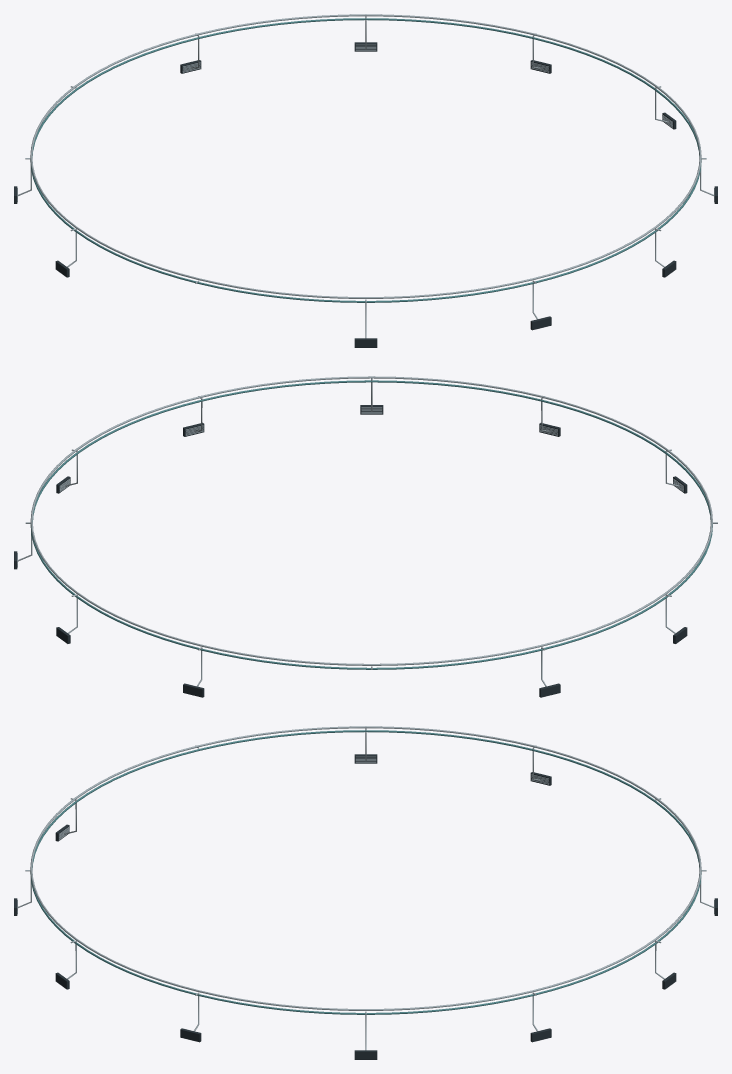
The model's file is RD_W02_Services.fbx.
The picture shows the model from 3 angles, top to bottom: view 1: azimuth 30°, elevation 25°; view 2: azimuth 150°, elevation 25°; view 3: azimuth 270°, elevation 25°; orthographic projection.
Visible parts, largest first — view 1: RD_W02_Services; view 2: RD_W02_Services; view 3: RD_W02_Services.
Boxes of the visible parts, box(x1,y1,x2,y2) form: RD_W02_Services: box(14, 14, 717, 347); RD_W02_Services: box(14, 376, 717, 697); RD_W02_Services: box(14, 726, 717, 1059).
Size of the model in its own units: 2134 by 146 by 2134.
